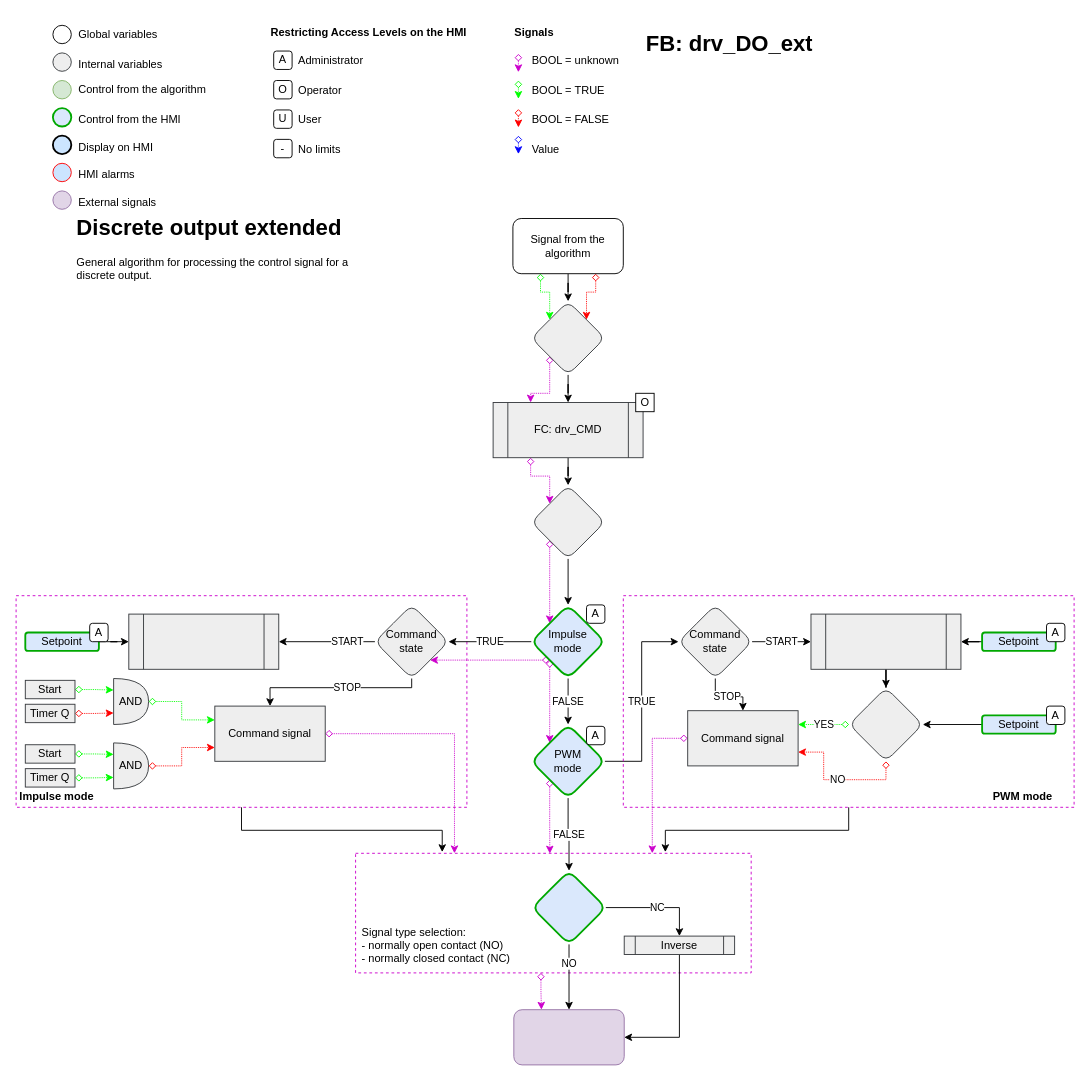
Image size: 1090x1081. Some labels were removed from this diagram. Each missing label, with the box of its shape:
AP% < SP%: (848, 687, 923, 761)
AUTO START: (530, 300, 605, 375)
CMD START: (530, 484, 605, 559)
Phisical output: (513, 1009, 624, 1065)
Signal type: (531, 869, 606, 945)
Start cyclic timer "total PWM time with % output status": (810, 613, 961, 669)
Start timer "minimum signal presence time": (128, 613, 279, 669)
